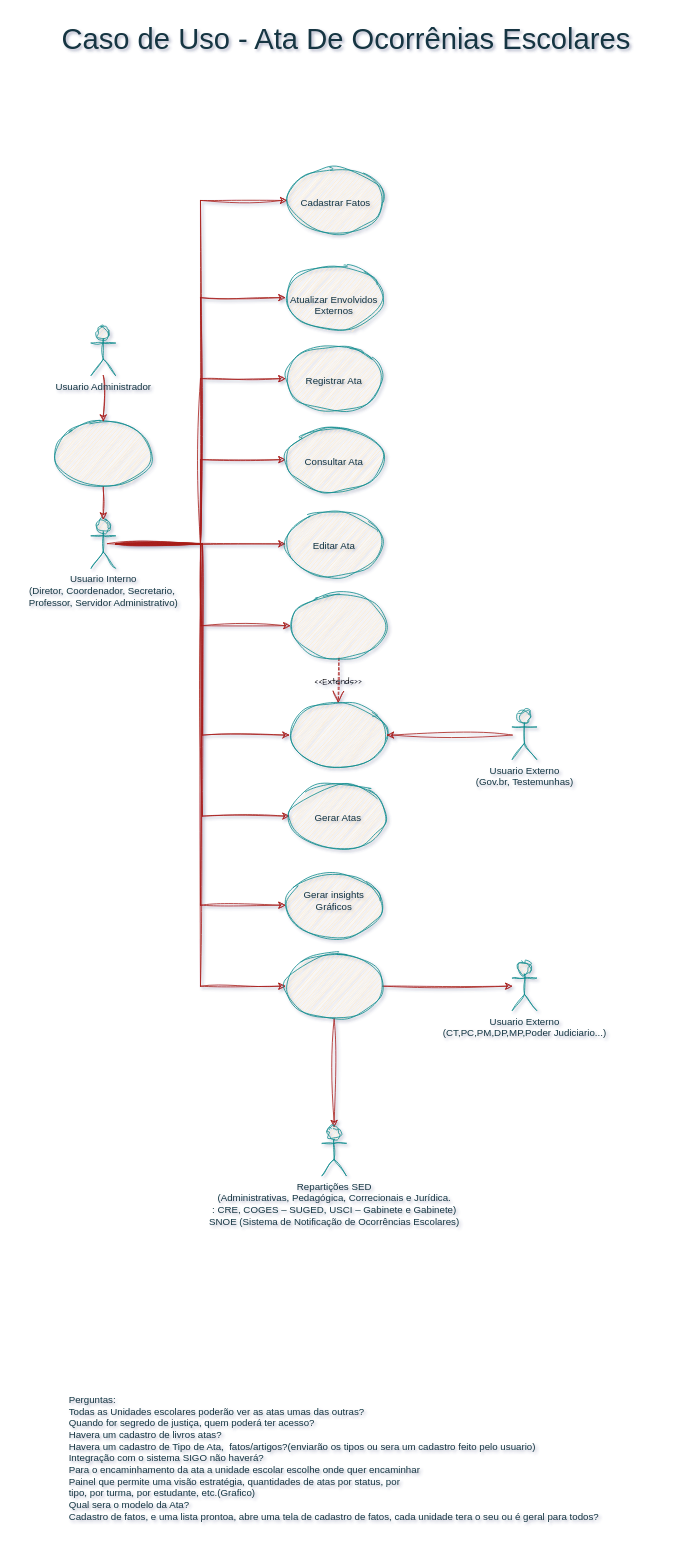
Some shapes in this 689 by 1553 pixel diagram are drawn without their labels. Each missing label, with the centre of its shape:
Assinar: [338,734]
Encaminhar Ata: [334,986]
Gerenciar Perfil Usuario: [103,453]
Incluir Anexo: [339,625]
